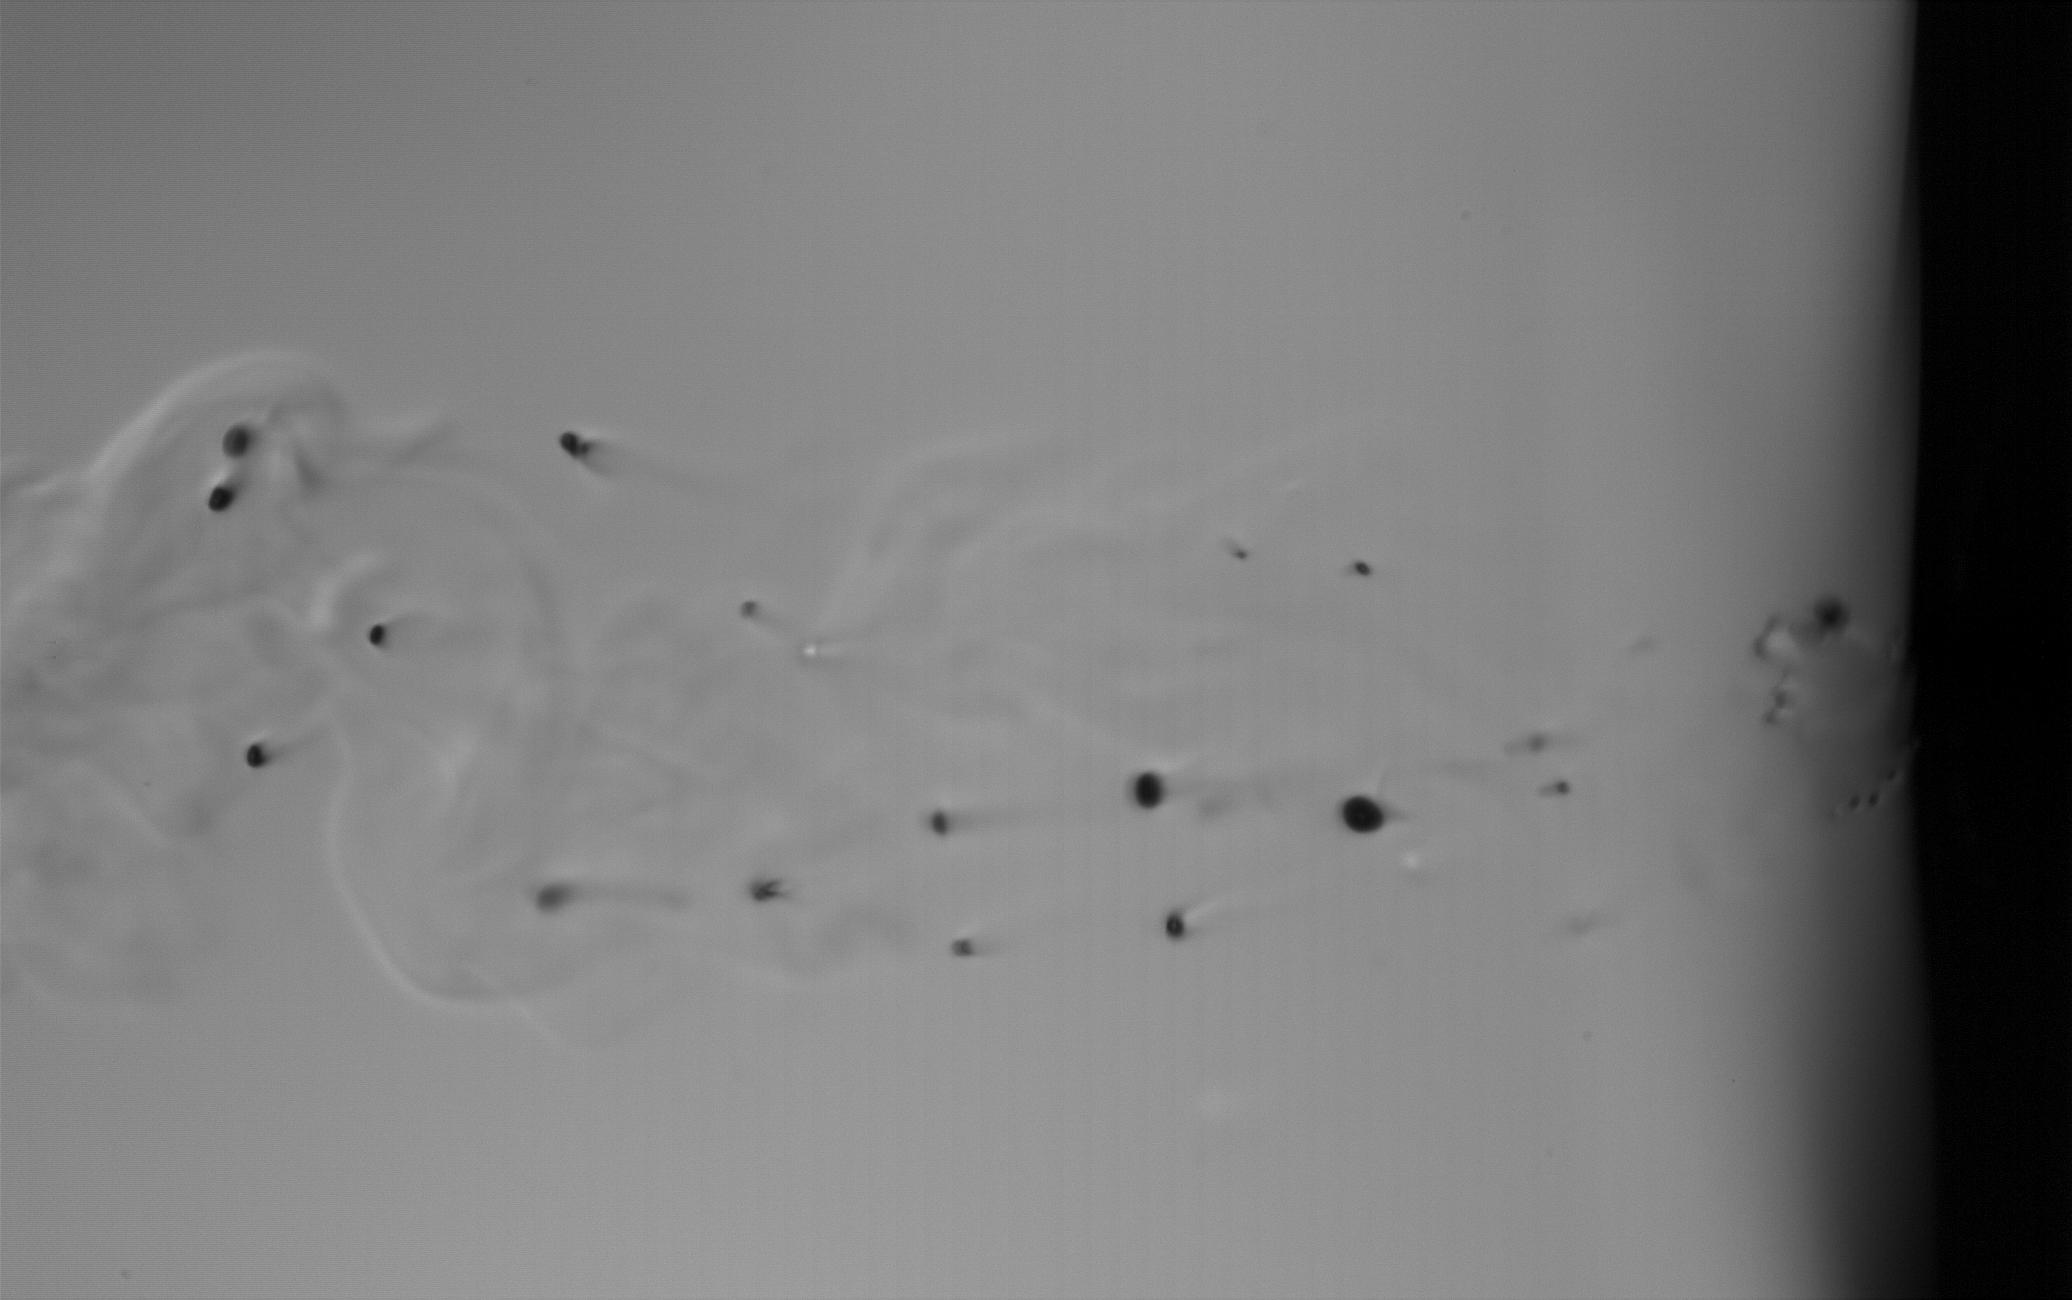Blurry: (1749, 605, 1788, 677), (1761, 665, 1800, 734), (530, 884, 582, 920), (743, 875, 799, 906), (554, 425, 590, 466), (945, 933, 975, 969), (1511, 729, 1547, 758), (1535, 777, 1573, 798), (1220, 533, 1246, 565)
ClassicalEvaporation: (1335, 786, 1386, 840), (1810, 589, 1853, 644), (1129, 767, 1168, 815), (202, 473, 243, 517), (243, 737, 269, 780), (734, 590, 767, 625), (1157, 906, 1189, 941), (1341, 553, 1376, 583), (365, 617, 391, 653)
TransitionalMixing: (219, 419, 255, 460), (924, 801, 954, 849)
